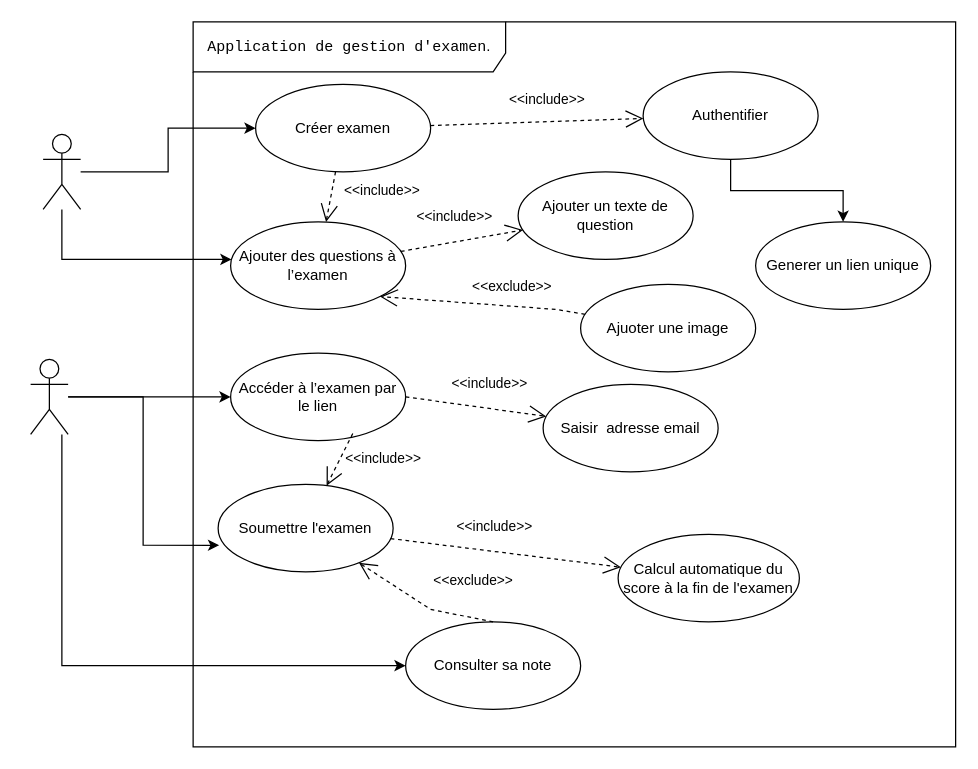
Image size: 978x769. Some labels were removed from this diagram. The centre of each missing label's shape, as x and y in pixels:
"Etudiant" goes at (x=48, y=396).
"Professeur" goes at (x=61, y=171).
